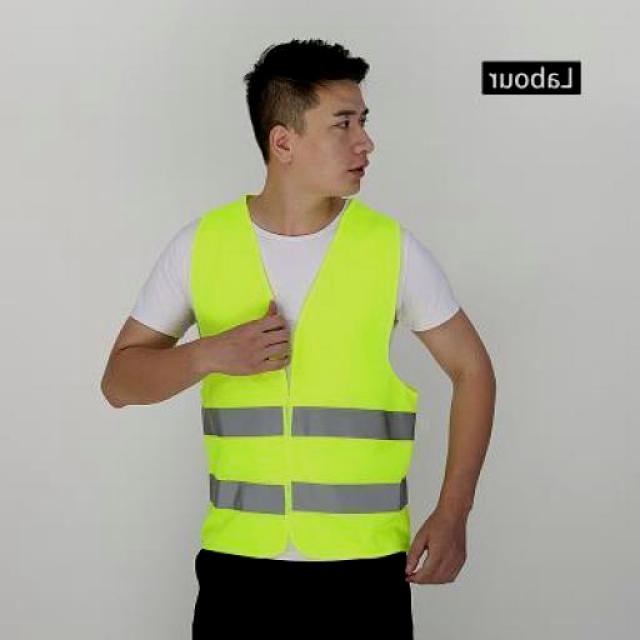face_nomask: (317, 102, 383, 186)
hand_noglove: (204, 296, 300, 386), (403, 515, 476, 595)
head_nohelmet: (244, 36, 374, 100)
person: (94, 37, 495, 640)
vest: (186, 192, 430, 560)
